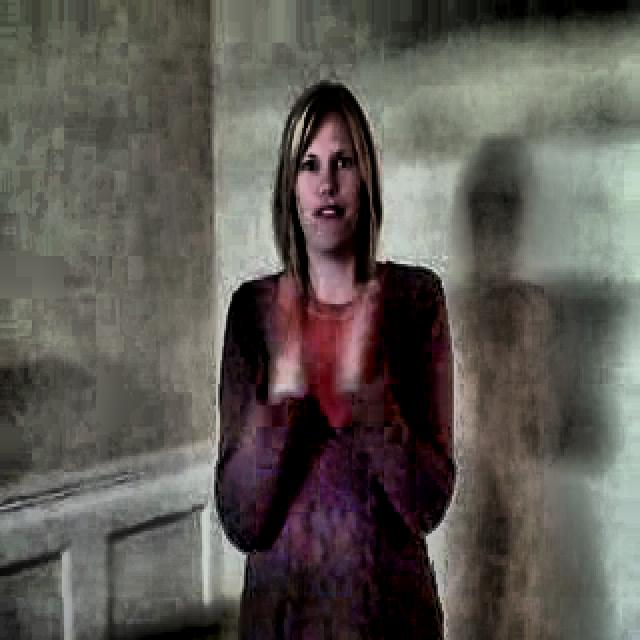F: (196, 71, 458, 622)
